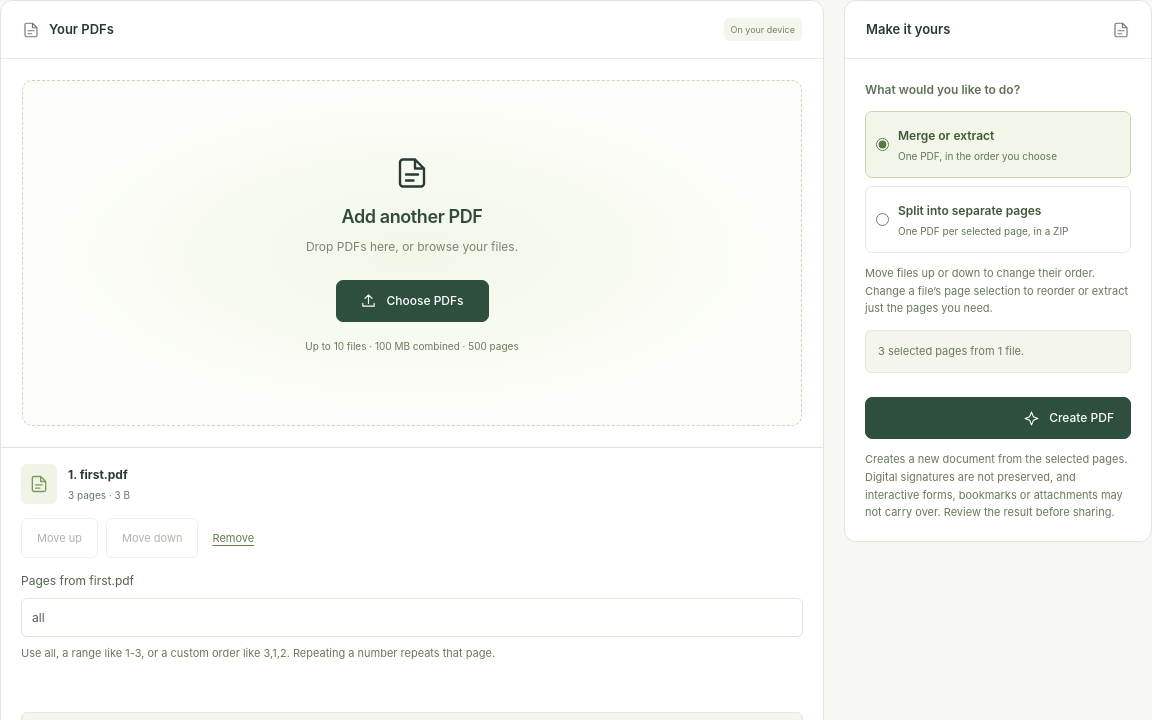
it: does not display a stale download when cancelled work finishes later
The width and height of the screenshot is (1152, 720).
Earlier steps of the test are not shown.
Expected: the field labelled "Pages from first.pdf" is shown, x1=21 y1=598 x2=803 y2=637
Click the button "Create PDF". click: [1082, 418]
box: x1=865 y1=397 x2=1131 y2=439
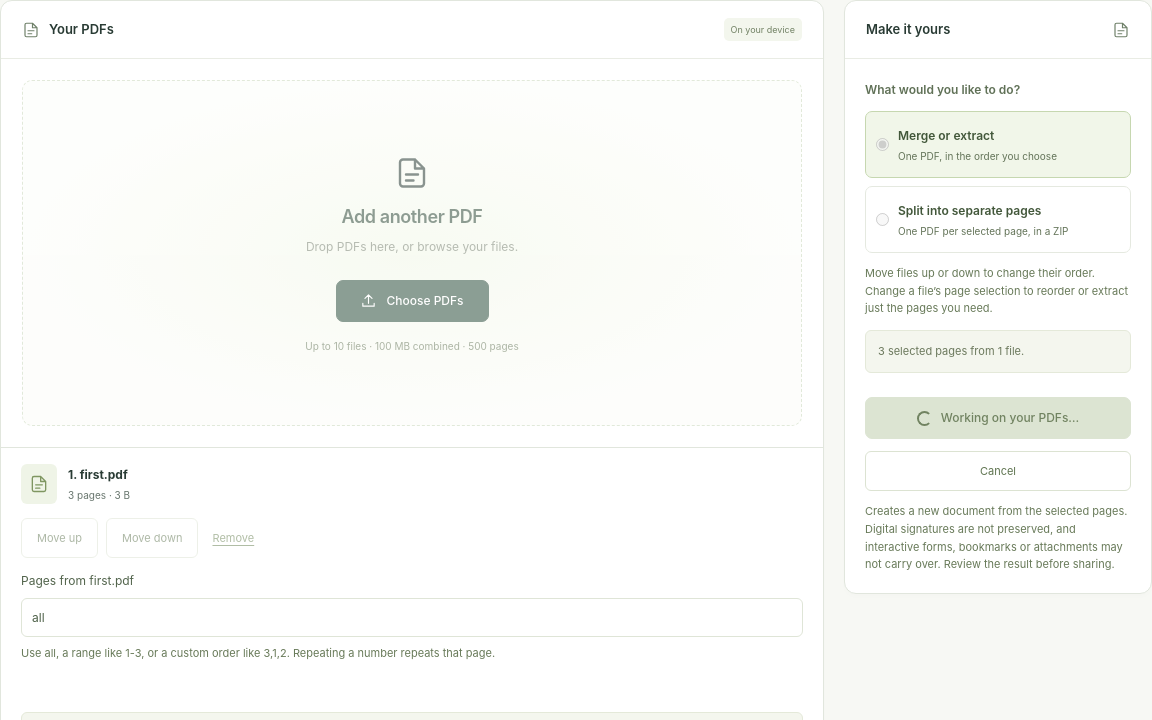
Now the button "Cancel" is shown
Click the button "Cancel". click: [998, 471]
box: x1=865 y1=451 x2=1131 y2=491
(page scrolled)
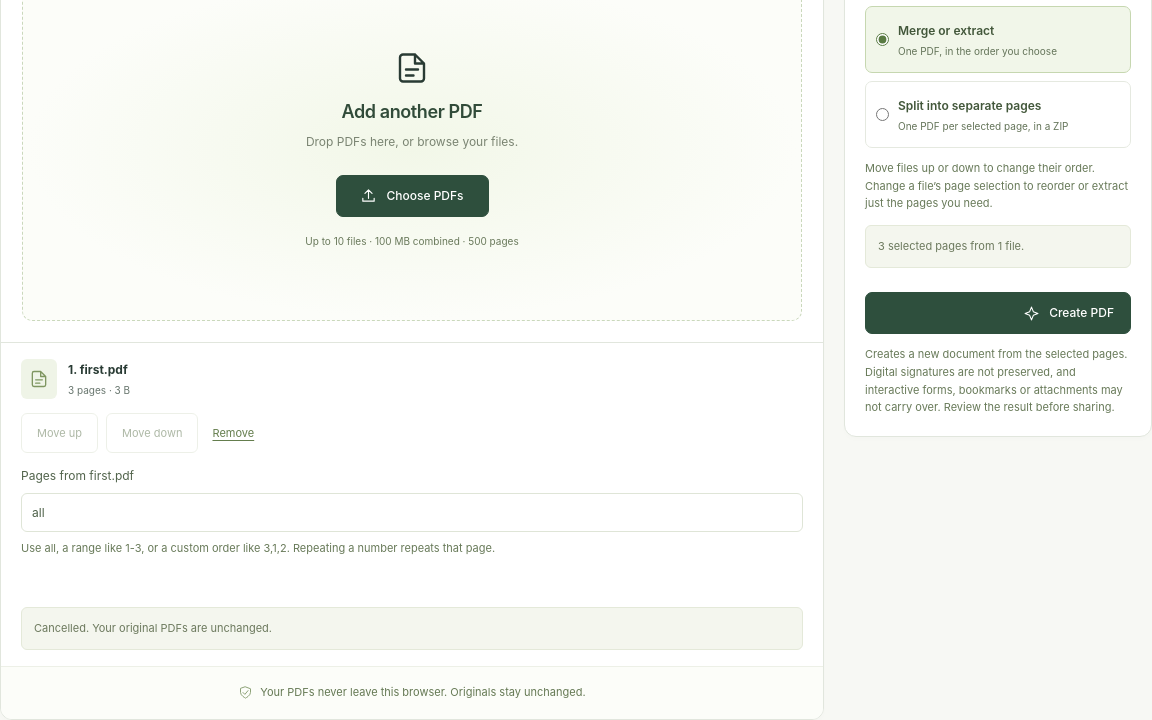
Now the message shows "Cancelled", box x1=34 y1=621 x2=272 y2=635
